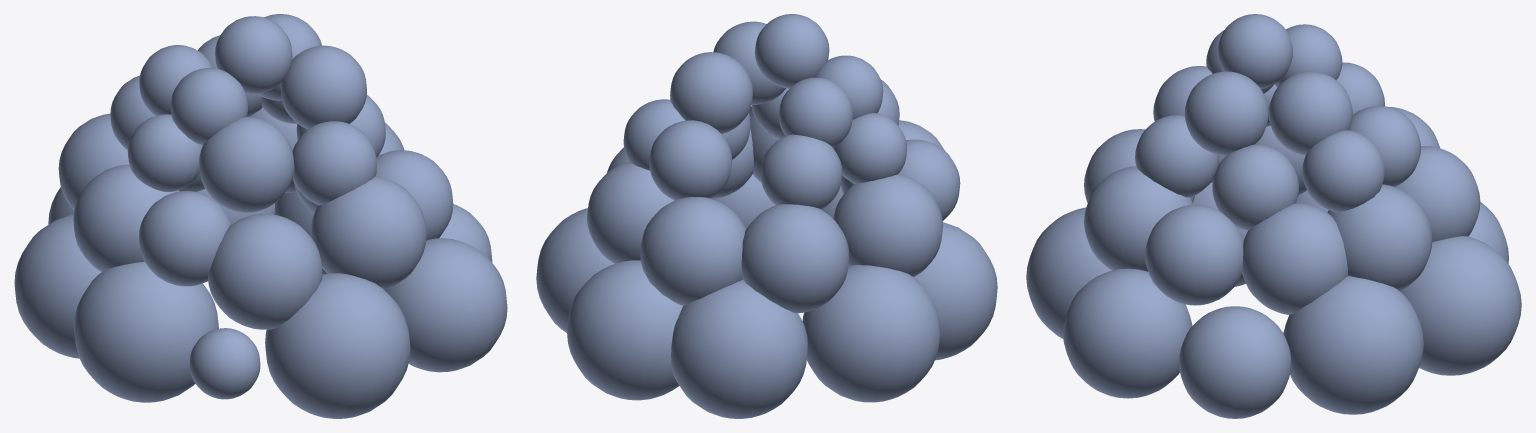
The model's file is snowLantern.fbx.
3 views of the same model, side by side, from view 1: azimuth 30°, elevation 25°; view 2: azimuth 150°, elevation 25°; view 3: azimuth 270°, elevation 25° (orthographic). The views are drawn at different scales.
Parts seen in each view (by area): view 1: snowLanternBall9, snowLanternBall26, snowLanternBall10, snowLanternBall19, snowLanternBall11, snowLanternBall25, snowLanternBall28, snowLanternBall27, snowLanternBall31, snowLanternBall34, snowLanternBall21, snowLanternBall40 (+16 smaller); view 2: snowLanternBall24, snowLanternBall25, snowLanternBall14, snowLanternBall30, snowLanternBall29, snowLanternBall31, snowLanternBall26, snowLanternBall17, snowLanternBall36, snowLanternBall35, snowLanternBall33, snowLanternBall13 (+14 smaller); view 3: snowLanternBall13, snowLanternBall10, snowLanternBall14, snowLanternBall12, snowLanternBall16, snowLanternBall15, snowLanternBall17, snowLanternBall11, snowLanternBall9, snowLanternBall34, snowLanternBall22, snowLanternBall32 (+14 smaller).
Boxes of the visible parts, x1,y1,x2,y2 form: snowLanternBall9: (265,273,410,418); snowLanternBall26: (74,262,218,402); snowLanternBall10: (384,238,507,372); snowLanternBall19: (208,214,322,329); snowLanternBall11: (311,176,426,289); snowLanternBall25: (14,214,101,358); snowLanternBall28: (199,117,294,212); snowLanternBall27: (139,191,231,286); snowLanternBall31: (73,164,179,272); snowLanternBall34: (280,45,366,129); snowLanternBall21: (292,121,376,205); snowLanternBall40: (215,16,292,93); snowLanternBall24: (671,279,807,418); snowLanternBall25: (802,264,940,402); snowLanternBall14: (567,260,682,400); snowLanternBall30: (741,204,849,313); snowLanternBall29: (640,197,745,305); snowLanternBall31: (833,173,942,276); snowLanternBall26: (914,222,997,360); snowLanternBall17: (587,162,674,263); snowLanternBall36: (649,120,732,200); snowLanternBall35: (670,52,752,133); snowLanternBall33: (760,134,842,209); snowLanternBall13: (536,208,614,332); snowLanternBall13: (1283,276,1423,414); snowLanternBall10: (1063,268,1192,398); snowLanternBall14: (1400,236,1521,375); snowLanternBall12: (1178,306,1291,418); snowLanternBall16: (1242,203,1348,314); snowLanternBall15: (1145,205,1243,305); snowLanternBall17: (1327,184,1432,290); snowLanternBall11: (1084,166,1192,271); snowLanternBall9: (1026,207,1111,339); snowLanternBall34: (1184,71,1268,155); snowLanternBall22: (1212,144,1298,230); snowLanternBall32: (1302,130,1384,211).
Bounding box in the file's own units: 0.8875 × 0.6923 × 0.9627.
